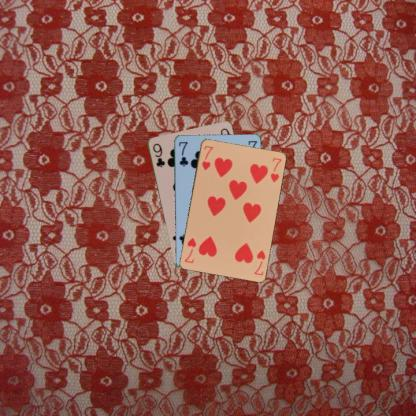7c: (176, 139, 189, 168)
7h: (252, 247, 266, 276), (200, 143, 214, 171)
9c: (150, 140, 166, 169)
